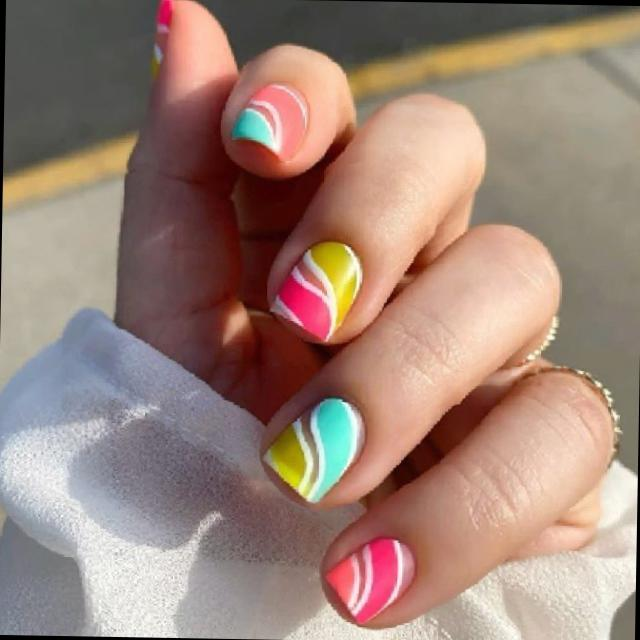Nail: (263, 397, 364, 502), (270, 240, 361, 341), (325, 537, 415, 623), (229, 83, 309, 158), (151, 0, 173, 78)
